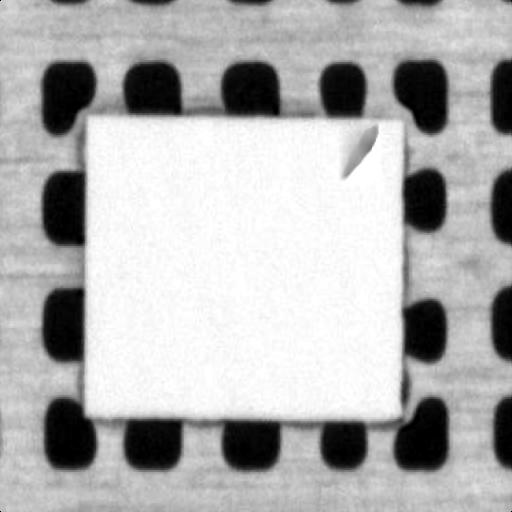DIE_INK: (338, 120, 378, 180)
